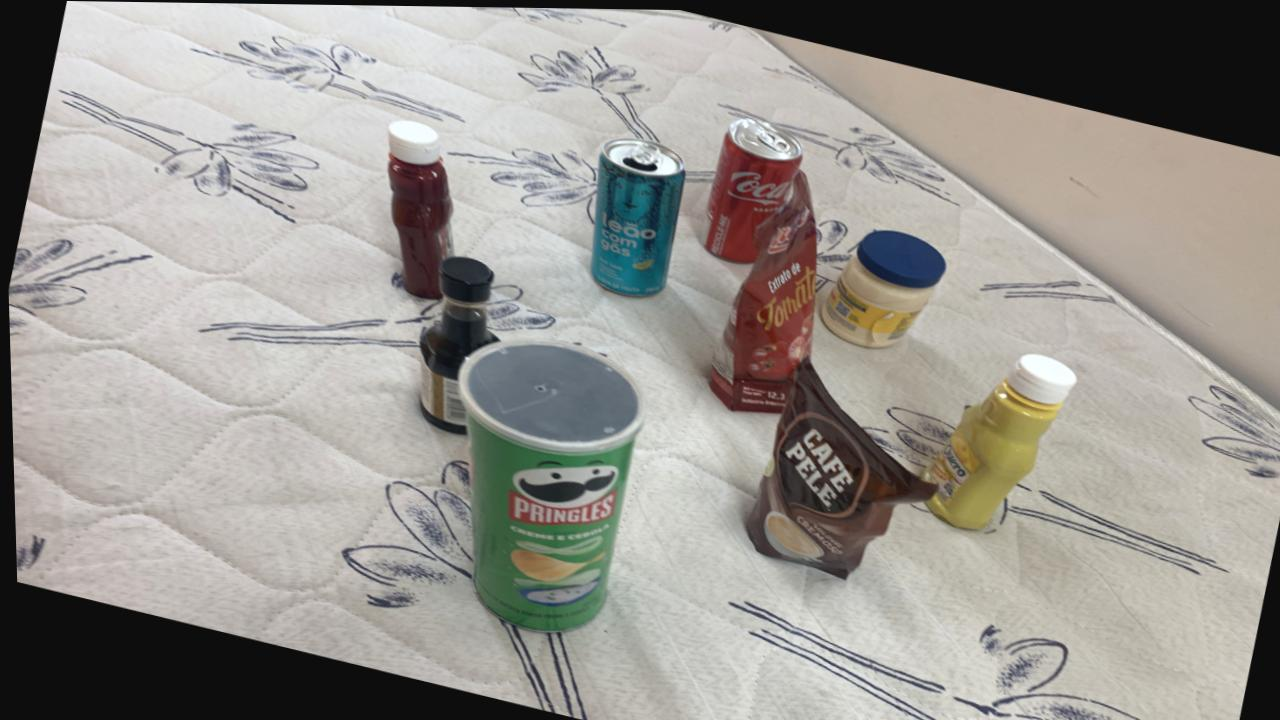Coffee-Pantry_Items: (742, 355, 933, 575)
Coke-Drinks: (702, 115, 802, 260)
English_Sauce-Pantry_Items: (416, 254, 495, 432)
Ketchup-Pantry_Items: (386, 118, 452, 298)
Mayonnaise-Pantry_Items: (819, 226, 944, 345)
Mustard-Pantry_Items: (919, 350, 1074, 526)
Pringles-Snacks: (457, 338, 641, 630)
Tea-Drinks: (587, 136, 684, 294)
Tomato_Sauce-Pantry_Items: (707, 168, 816, 411)
